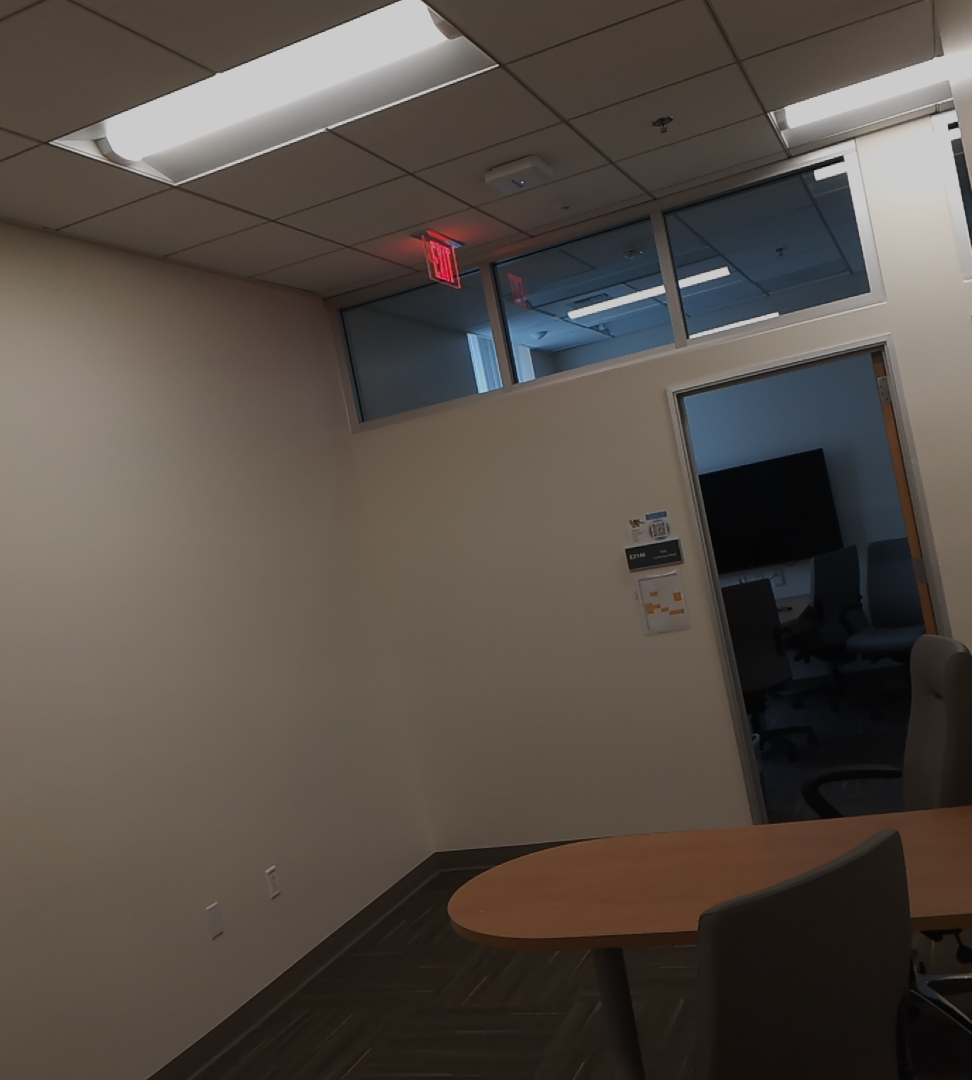emergency_exit: (419, 227, 465, 290)
